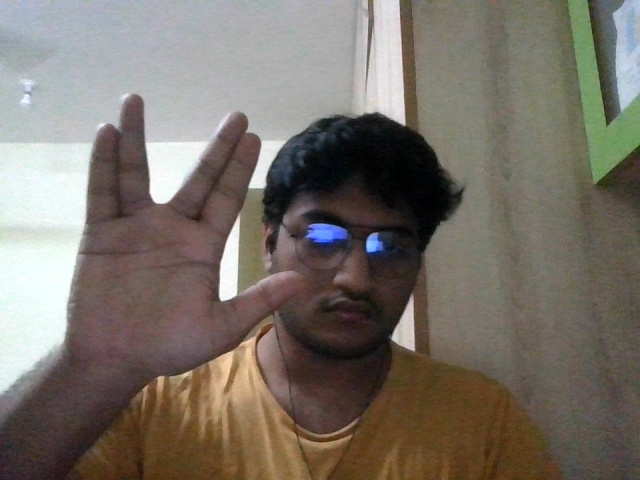livelong: (66, 94, 304, 376)
